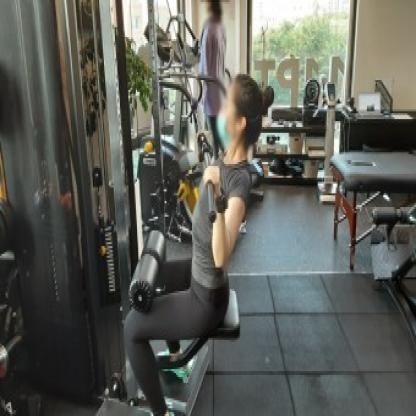Lat Pull Down: (0, 0, 283, 416)
